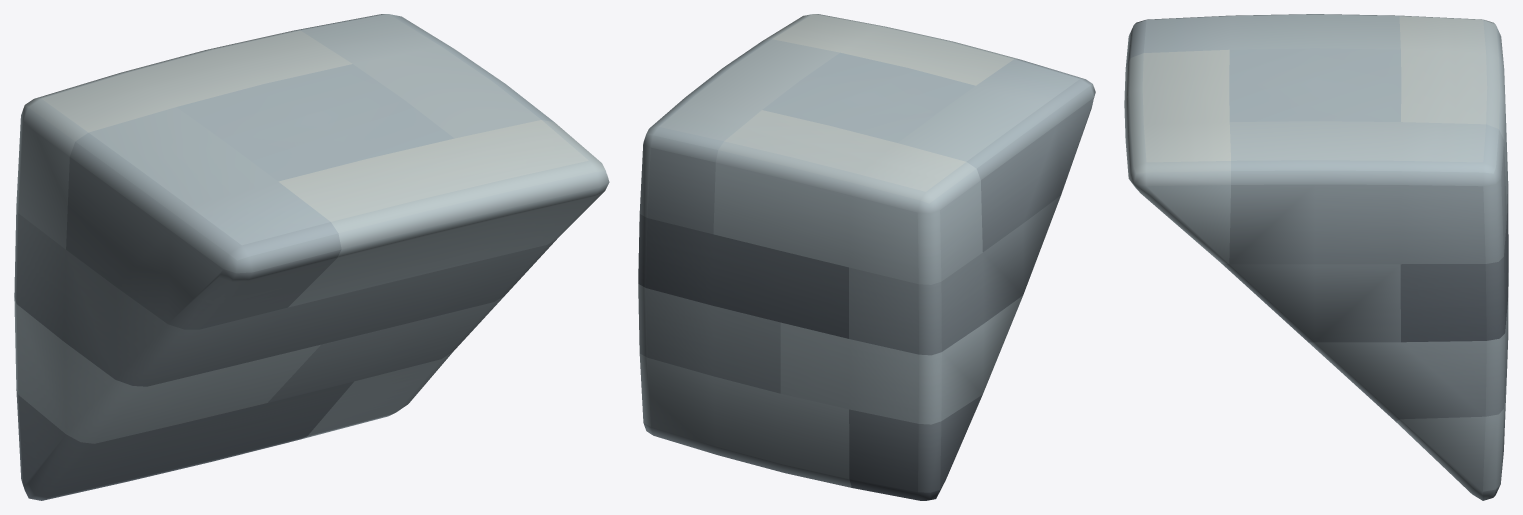
File: Quartz_4x4_SlopeUnder.fbx
3 views of the same model, side by side, from view 1: azimuth 30°, elevation 25°; view 2: azimuth 150°, elevation 25°; view 3: azimuth 270°, elevation 25° (orthographic). The views are drawn at different scales.
Visible parts, largest first — view 1: Quartz_4x4_SlopeUnder_LOD0; view 2: Quartz_4x4_SlopeUnder_LOD0; view 3: Quartz_4x4_SlopeUnder_LOD0.
Boxes of the visible parts, x1=… form: Quartz_4x4_SlopeUnder_LOD0: x1=14, y1=14, x2=609, y2=500; Quartz_4x4_SlopeUnder_LOD0: x1=638, y1=14, x2=1095, y2=500; Quartz_4x4_SlopeUnder_LOD0: x1=1124, y1=14, x2=1508, y2=500.
Size of what is drawn, in the model's own units: 1.09 by 1.08 by 1.08.
